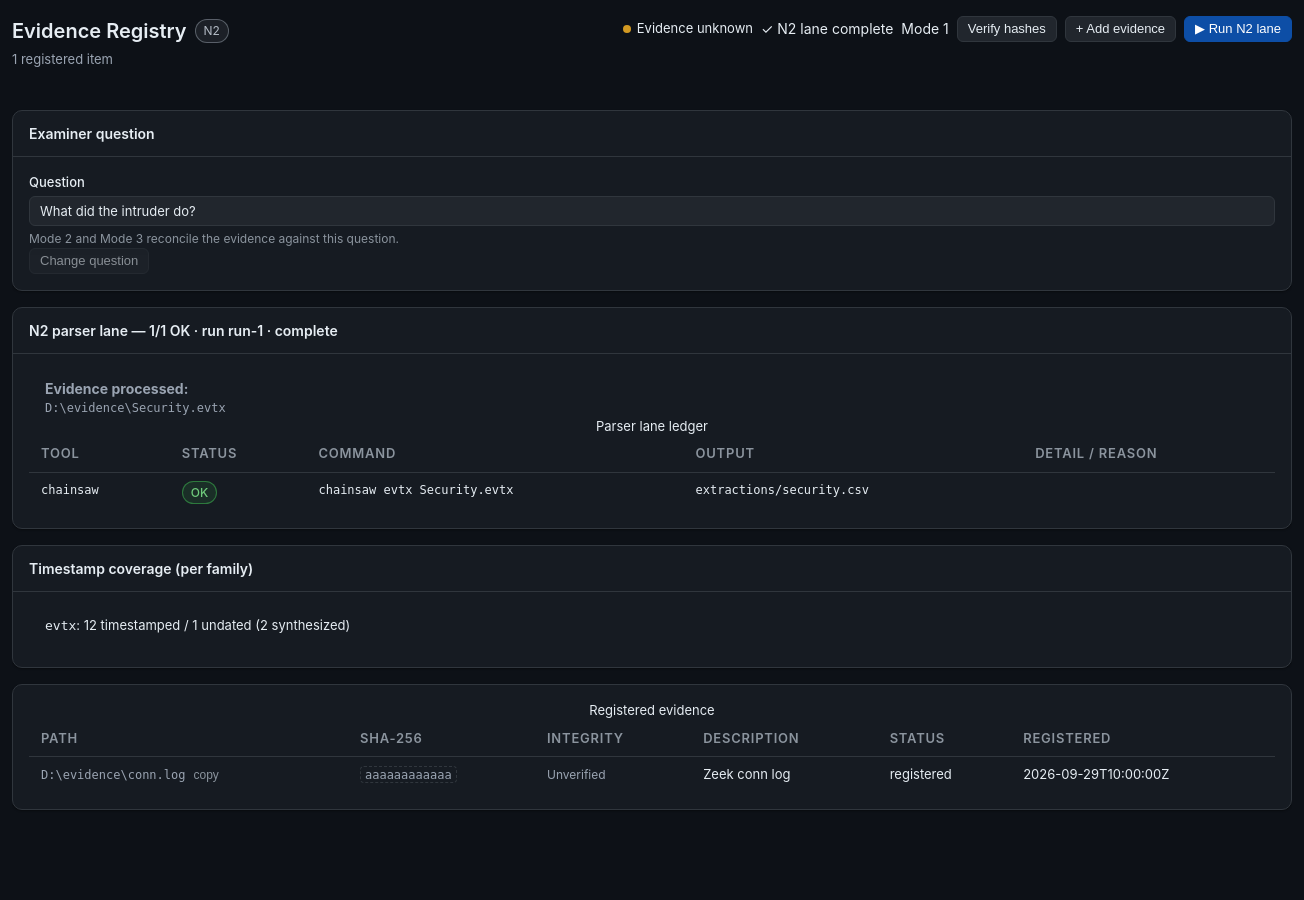
Test: Evidence (migrated) › says mismatch in words when a hash fails
The image size is (1304, 900).
expect the text "chainsaw" is shown: met, box [29,472,170,512]
Click the button "Verify hashes".
click(1007, 29)  # box [957,16,1057,42]
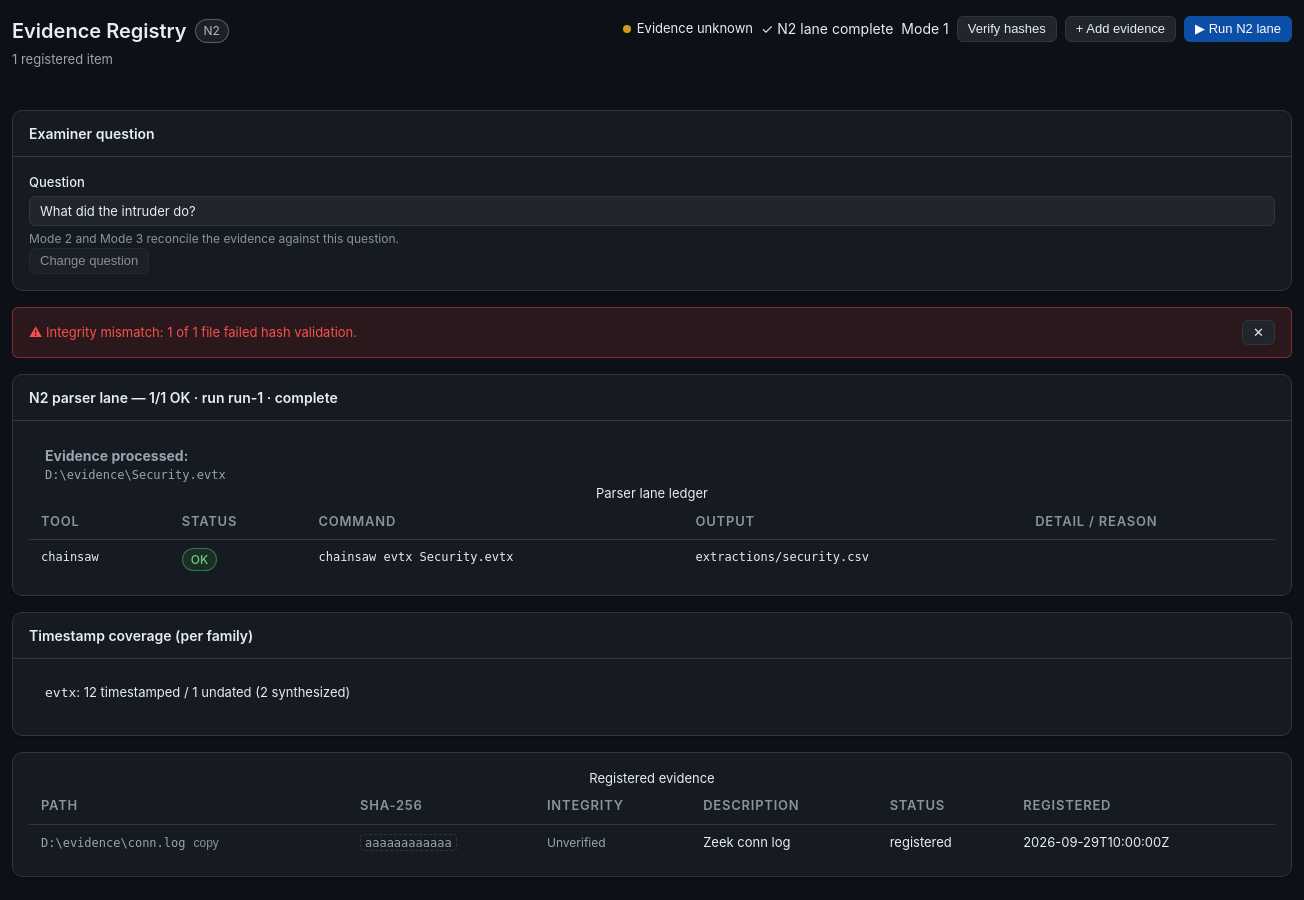
expect the message with test id "evidence-verify-verdict" shows "Integrity mismatch: 1 of 1": met, box [29,324,357,340]
